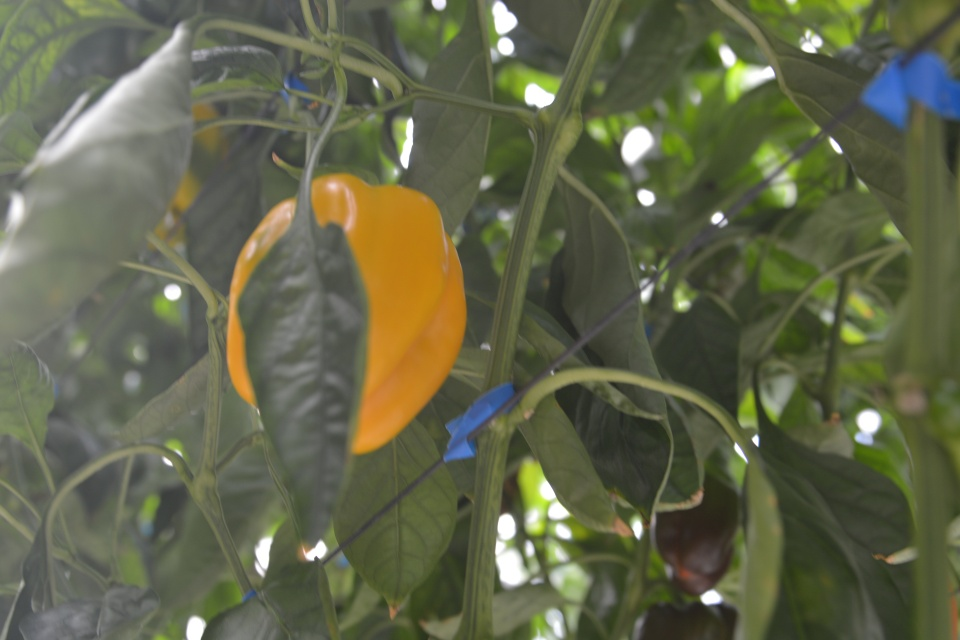fruit: (224, 171, 468, 459), (150, 101, 228, 250), (653, 476, 740, 596), (631, 599, 740, 640)
